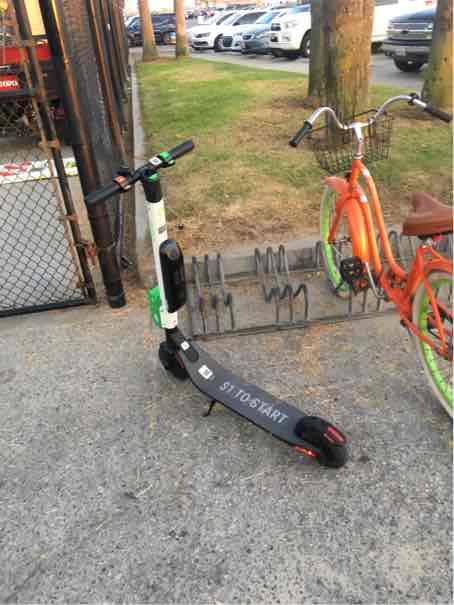scooter: (78, 130, 357, 477)
